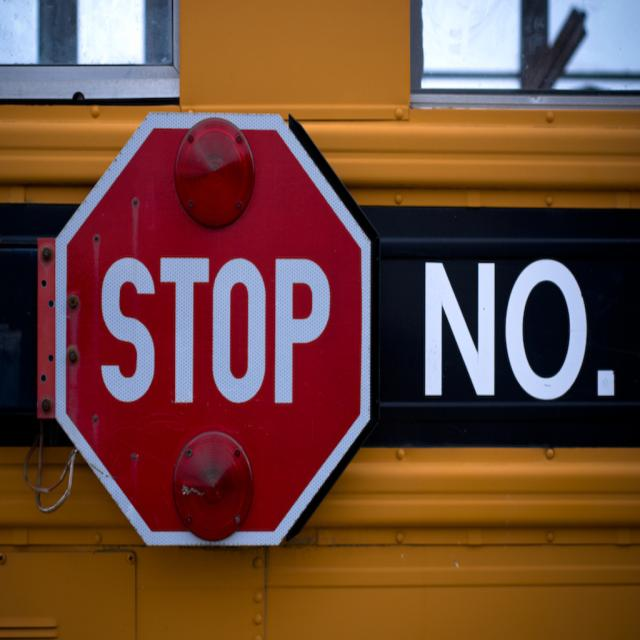Stop-sign: (56, 109, 370, 553)
